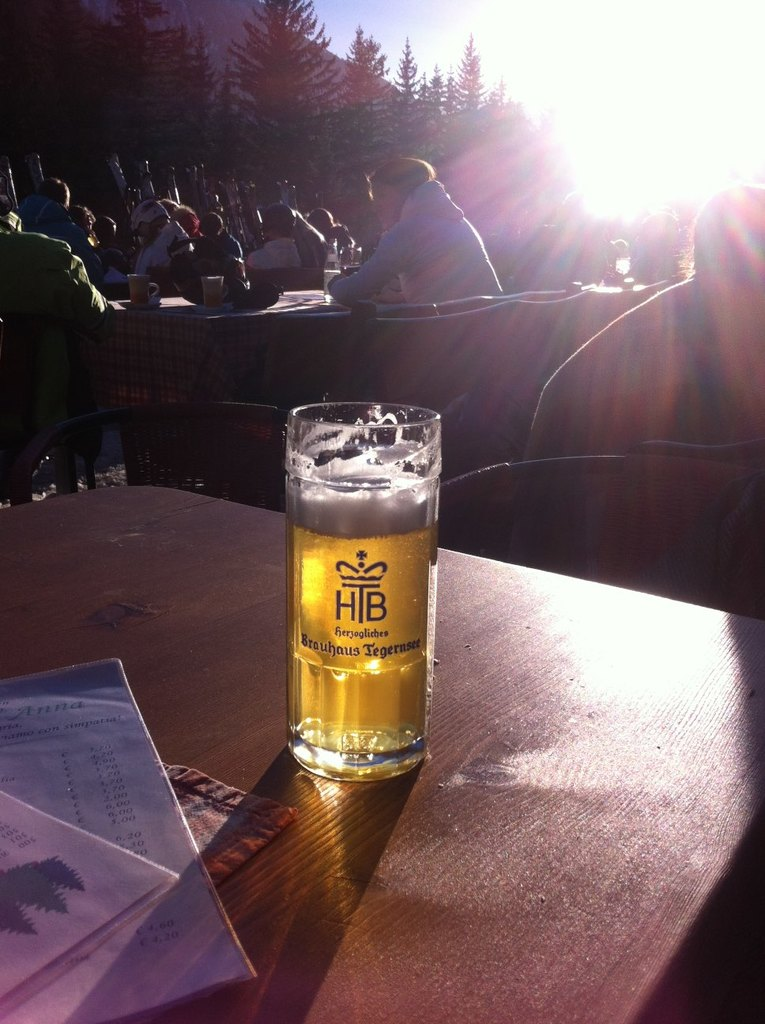Beer: (288, 451, 436, 752)
